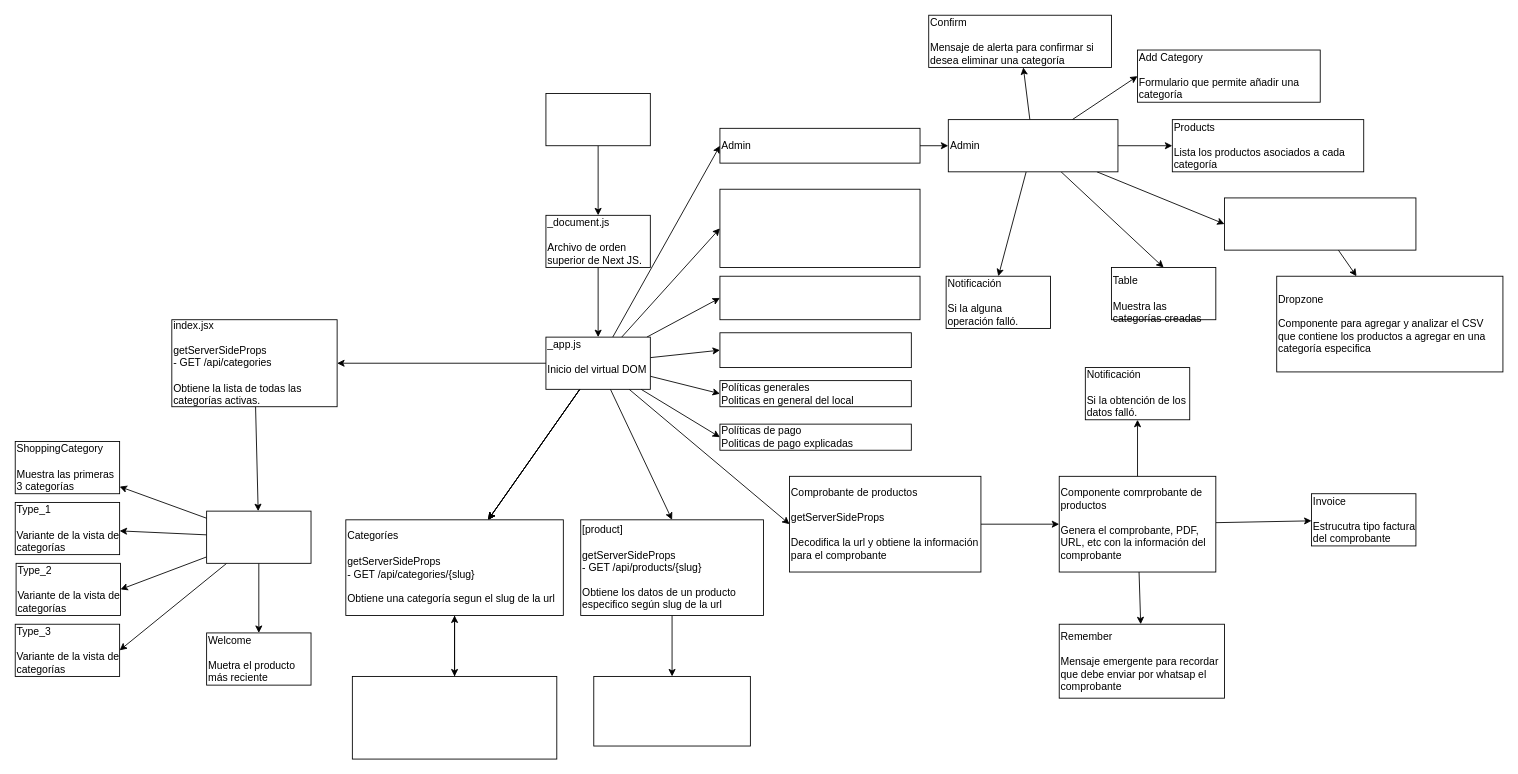
Image size: 1518x774. Some labels were removed from this diagram. Here are the shapes that lost their labels. From the top down, the centre of each, then its label:
At (597,119): "Bazar JJ".
At (819,228): "Login Formulario para iniciar sesión y que lleva al admin".
At (1320,223): "Add Productos Componente para agregar productos".
At (819,297): "Atención al cliente Información de contacto y hubicación del local".
At (815,350): "Envío y devolucion Políticas detalladas sobre el envío y devolución".
At (258,536): "Dashboard.jsx".
At (454,717): "Category Muestra la lista de productos de la categoría actual".
At (671,711): "Product Contiene el detalle de la vista de producto".
